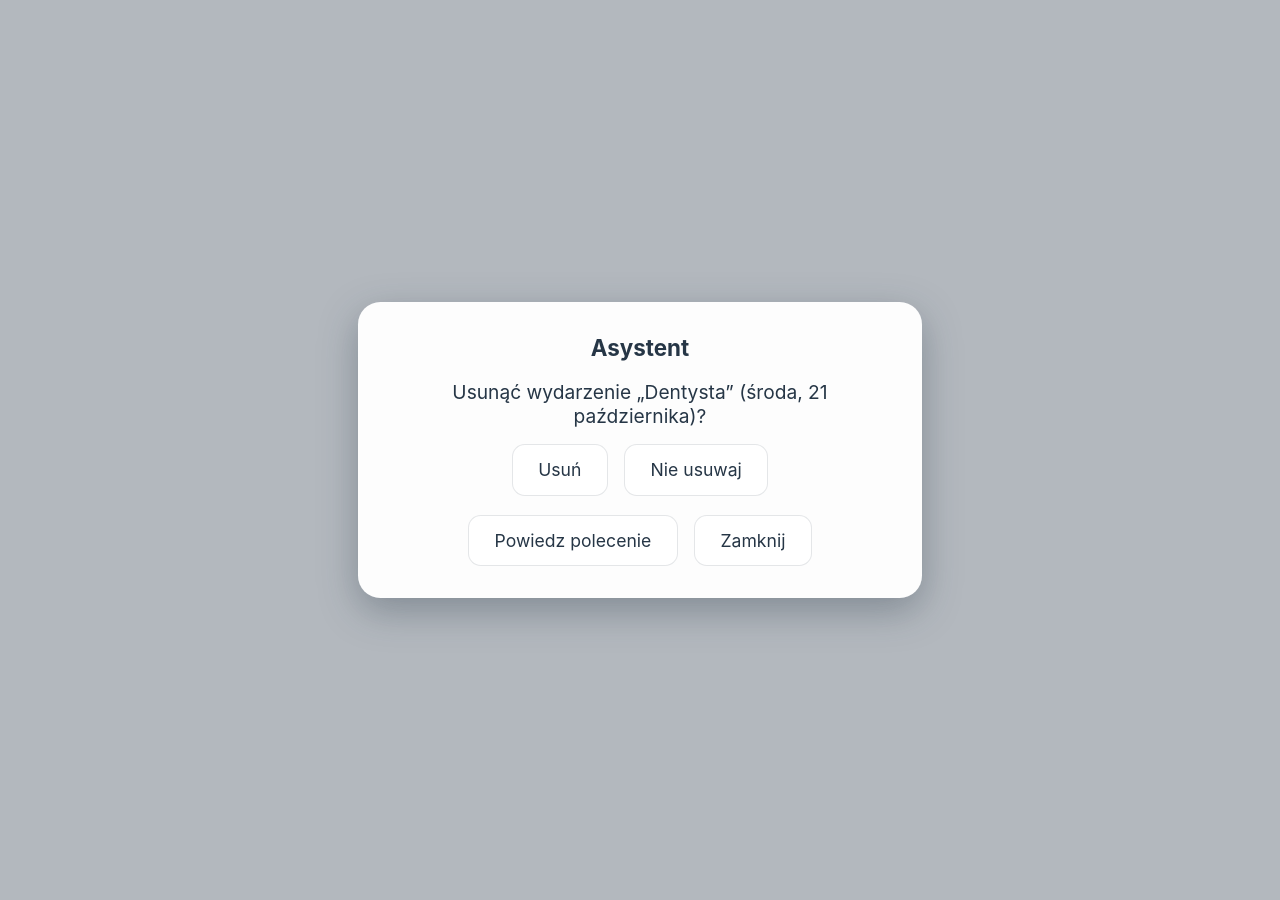
Test case: AssistantDialog › asks before deleting and deletes after a tap on "Usuń"
Expected: the text "Usunąć wydarzenie „Dentysta”" is shown, [452, 380, 828, 428]
Click the button "Usuń" at (560, 470), box [512, 444, 608, 496]
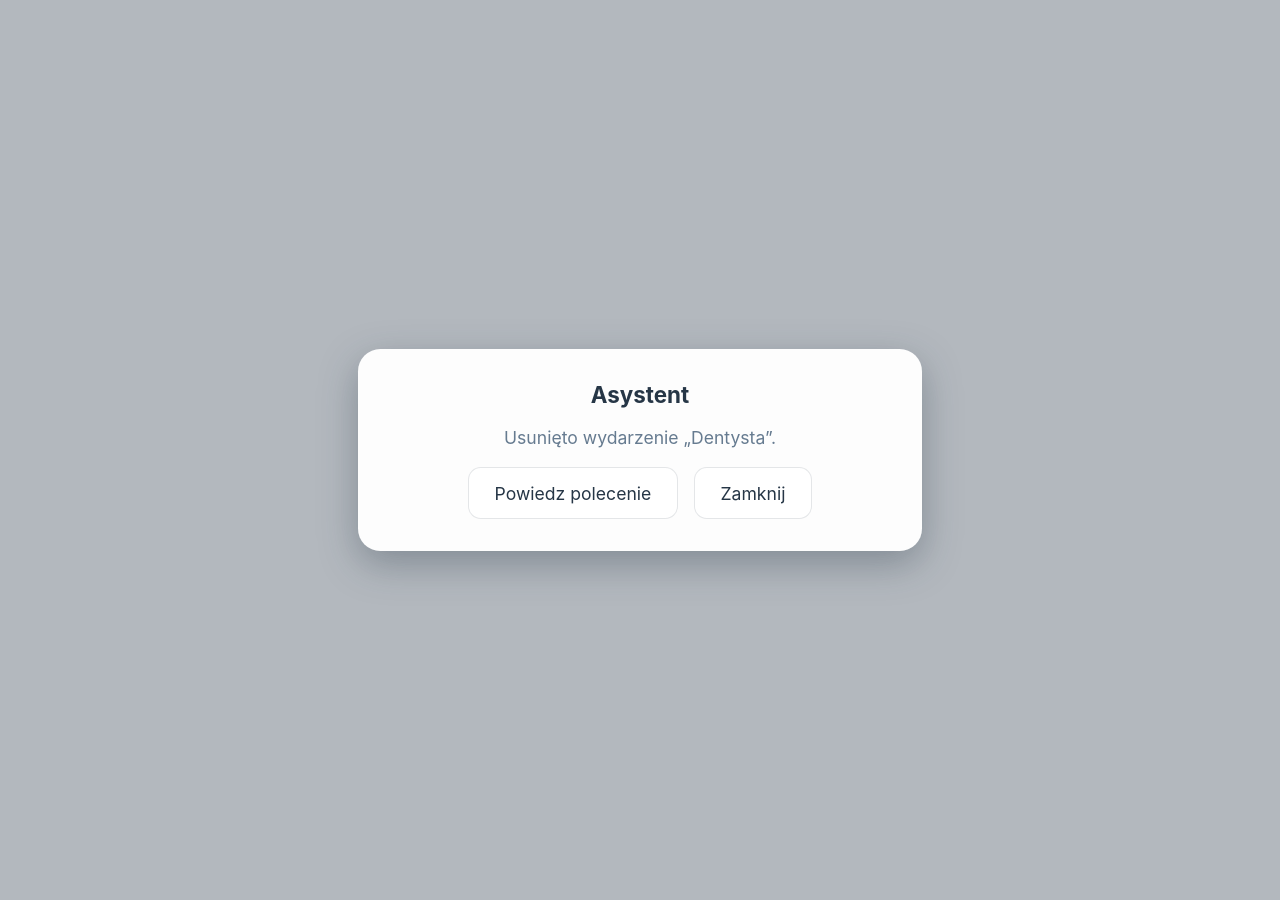
Now the list item "Usunięto wydarzenie „Dentysta”." is shown, box [504, 427, 776, 448]
Now the text "Usunąć wydarzenie" is gone
